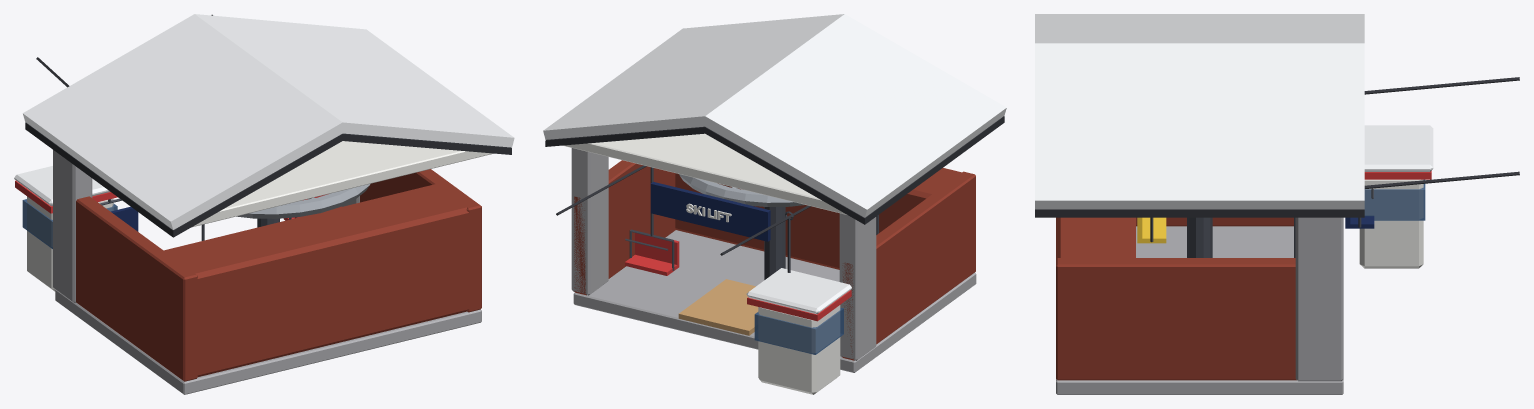
Rendered from SkiLiftStation.fbx.
3 renders of one model, left to right at view 1: azimuth 30°, elevation 25°; view 2: azimuth 150°, elevation 25°; view 3: azimuth 270°, elevation 25°, orthographic. The views are drawn at different scales.
Parts seen in each view (by area): view 1: SkiLiftStation_Snow, SkiLiftStation_WoodRed, SkiLiftStation_Concrete, SkiLiftStation_White, SkiLiftStation_Charcoal, SkiLiftStation_Metal, SkiLiftStation_GlassDark, SkiLiftStation_Red; view 2: SkiLiftStation_Snow, SkiLiftStation_WoodRed, SkiLiftStation_Concrete, SkiLiftStation_White, SkiLiftStation_Charcoal, SkiLiftStation_Navy, SkiLiftStation_WoodLight, SkiLiftStation_GlassDark, SkiLiftStation_Red, SkiLiftStation_DarkMetal, SkiLiftStation_Metal; view 3: SkiLiftStation_Snow, SkiLiftStation_WoodRed, SkiLiftStation_Concrete, SkiLiftStation_White, SkiLiftStation_Charcoal, SkiLiftStation_GlassDark, SkiLiftStation_DarkMetal, SkiLiftStation_Yellow, SkiLiftStation_Red.
Boxes of the visible parts, x1,y1,x2,y2 form: SkiLiftStation_Snow: (14, 14, 514, 229); SkiLiftStation_WoodRed: (76, 169, 481, 381); SkiLiftStation_Concrete: (53, 150, 481, 394); SkiLiftStation_White: (27, 141, 493, 291); SkiLiftStation_Charcoal: (25, 14, 511, 237); SkiLiftStation_Metal: (236, 184, 370, 218); SkiLiftStation_GlassDark: (22, 199, 117, 248); SkiLiftStation_Red: (15, 180, 341, 220); SkiLiftStation_Snow: (543, 14, 1006, 314); SkiLiftStation_WoodRed: (574, 160, 975, 360); SkiLiftStation_Concrete: (571, 148, 976, 372); SkiLiftStation_White: (563, 133, 846, 394); SkiLiftStation_Charcoal: (545, 116, 1004, 255); SkiLiftStation_Navy: (650, 181, 770, 241); SkiLiftStation_WoodLight: (678, 279, 758, 335); SkiLiftStation_GlassDark: (754, 307, 843, 354); SkiLiftStation_Red: (625, 233, 851, 321); SkiLiftStation_DarkMetal: (625, 167, 878, 279); SkiLiftStation_Metal: (679, 174, 804, 206); SkiLiftStation_Snow: (1035, 14, 1433, 209); SkiLiftStation_WoodRed: (1056, 217, 1296, 380); SkiLiftStation_Concrete: (1056, 217, 1343, 394); SkiLiftStation_White: (1359, 179, 1423, 268); SkiLiftStation_Charcoal: (1035, 77, 1519, 217); SkiLiftStation_GlassDark: (1364, 179, 1425, 220); SkiLiftStation_DarkMetal: (1150, 188, 1373, 257); SkiLiftStation_Yellow: (1137, 217, 1166, 243); SkiLiftStation_Red: (1364, 171, 1431, 179).
Size of the model in its own units: 27.6 by 18.7 by 30.31.
